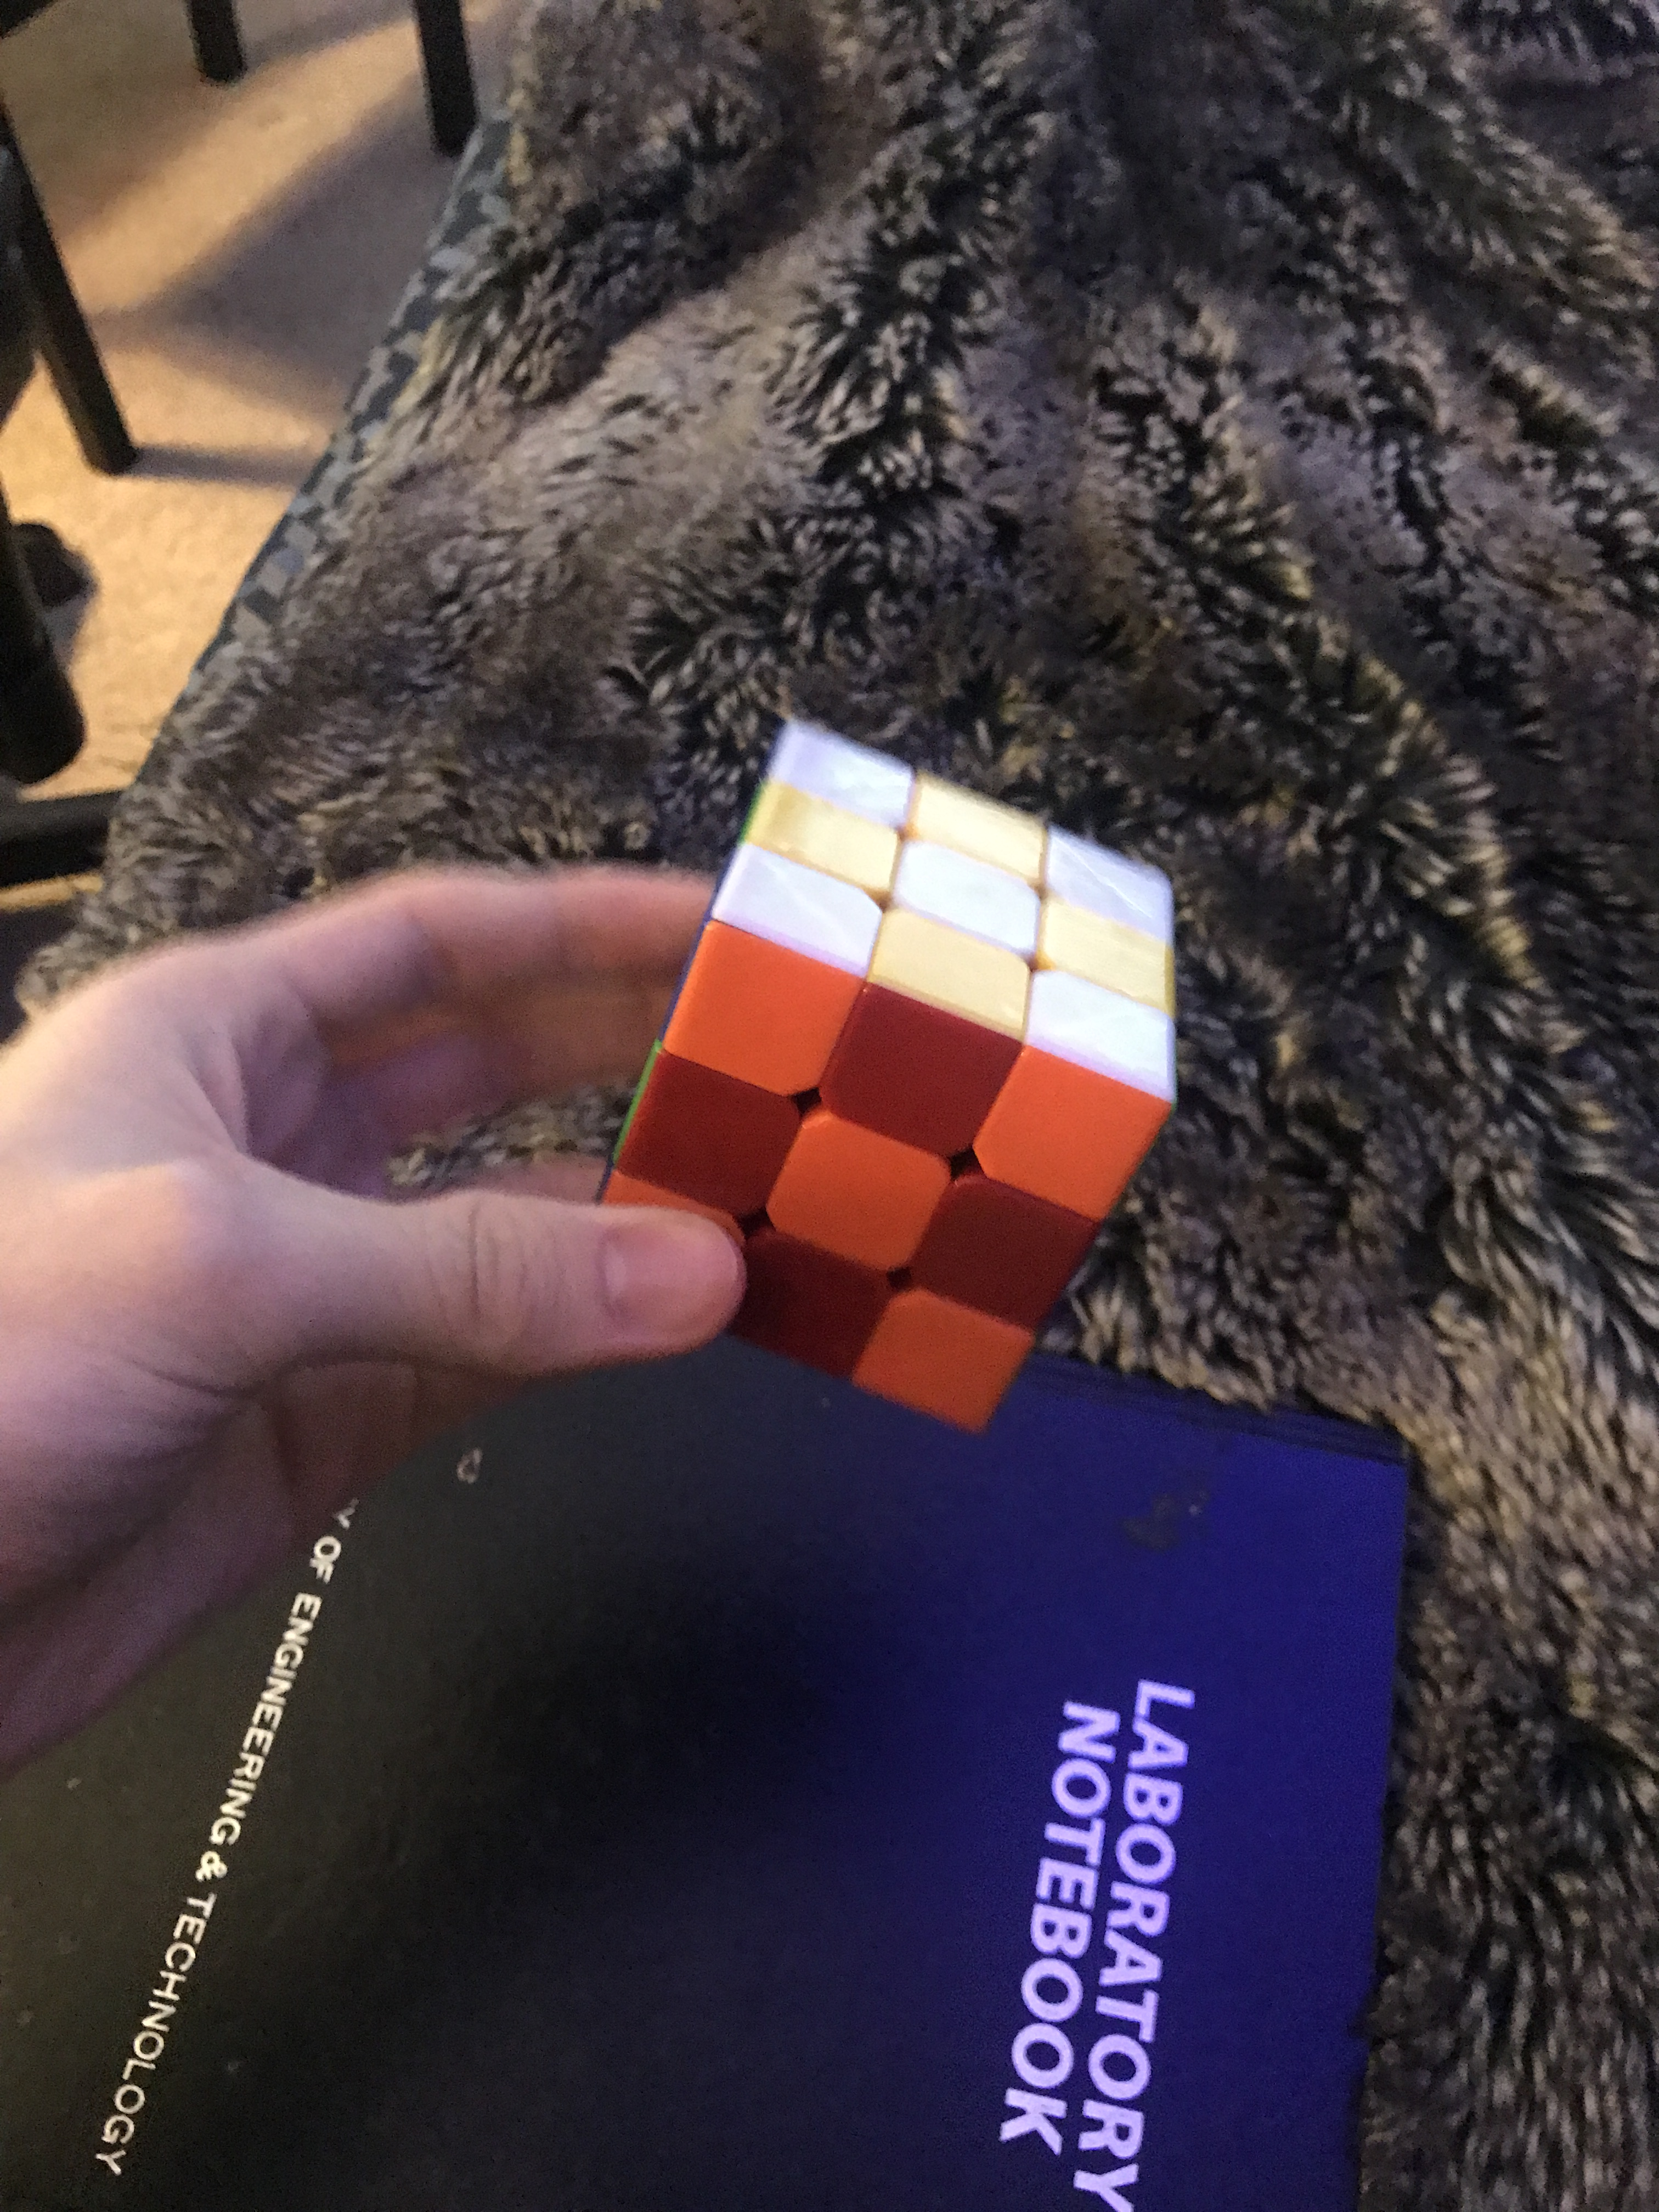rubiks: (575, 719, 1178, 1435)
